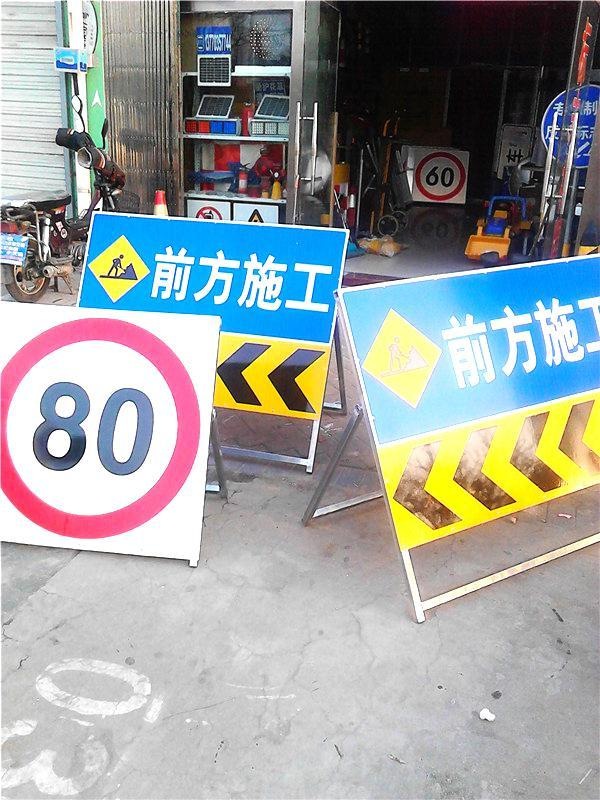sign: (358, 251, 600, 591), (84, 212, 339, 339)
